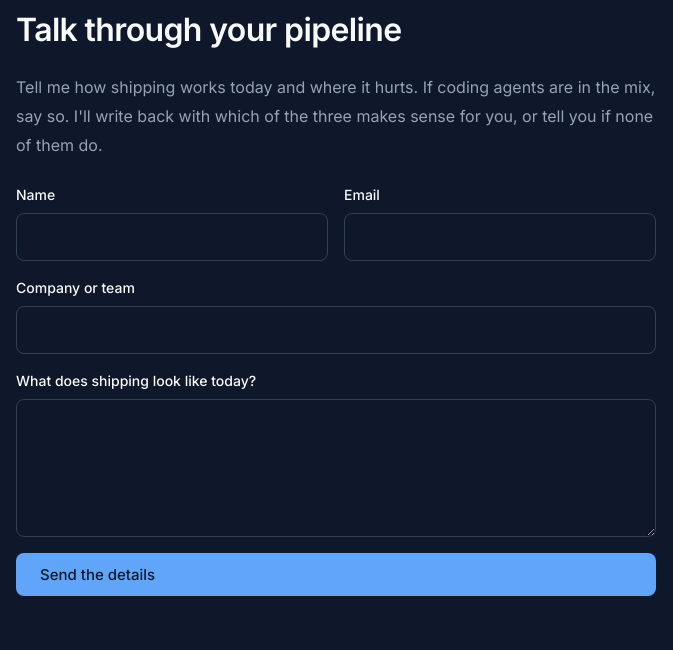
Test: Contact lead form › submits the labeled fields and shows success
This screenshot has width=673, height=650.
Type "Ada Lovelace" into the field labelled "Name" at x=172, y=237, box [16,213,328,261]
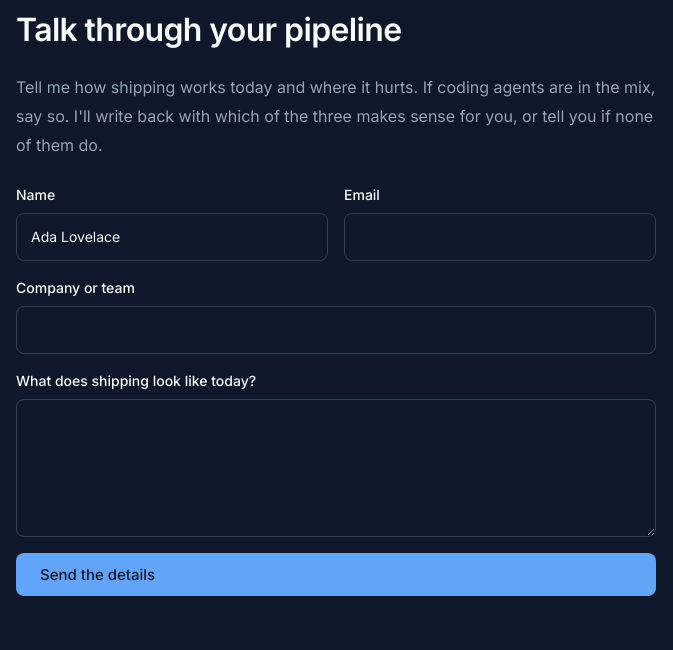
Type "ada@example.com" into the field labelled "Email" at x=500, y=237, box [344,213,656,261]
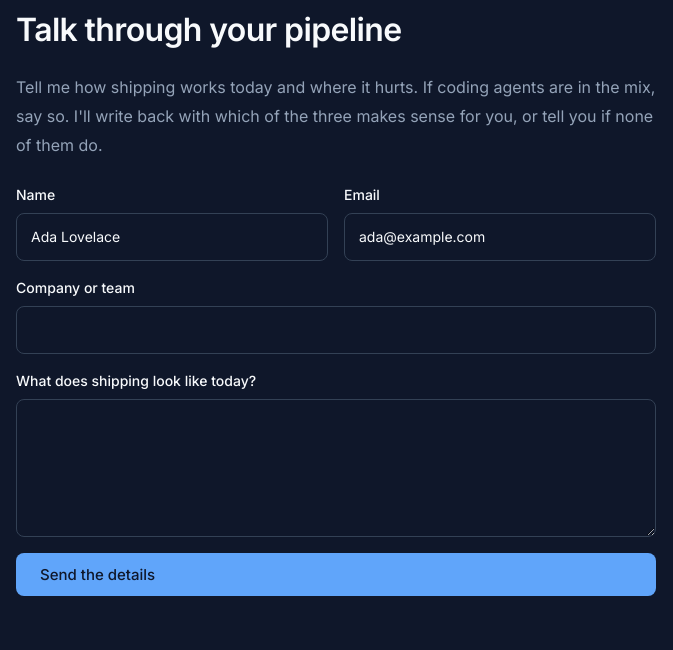
Type "Analytical Engines" into the field labelled "Company or team" at x=336, y=330, box [16,306,656,354]
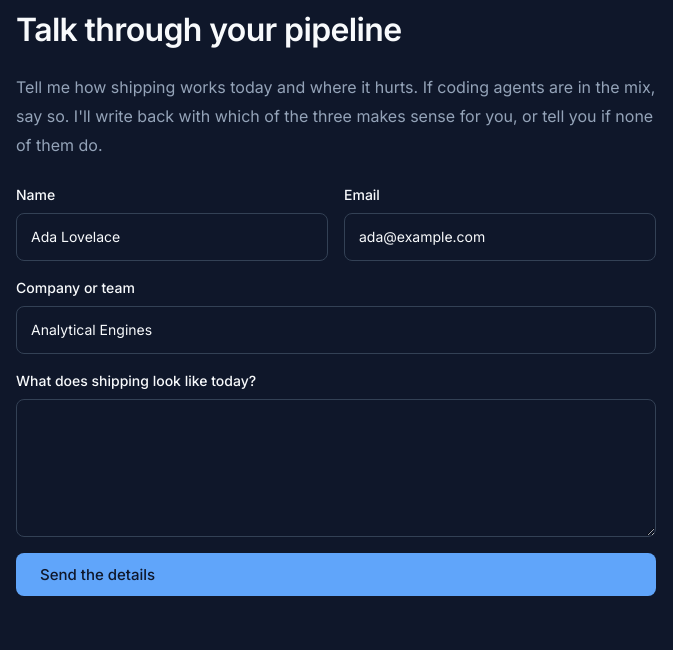
Type "We merge manually and deploy from a laptop." into the text box labelled "What does shipping look like today?" at x=336, y=468, box [16,399,656,537]
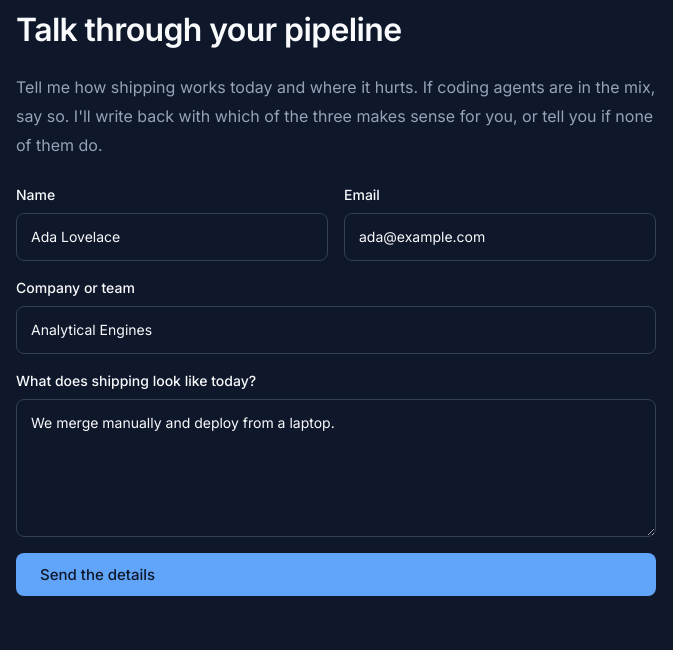
Click the button "Send the details" at x=98, y=574, box [16,553,656,596]
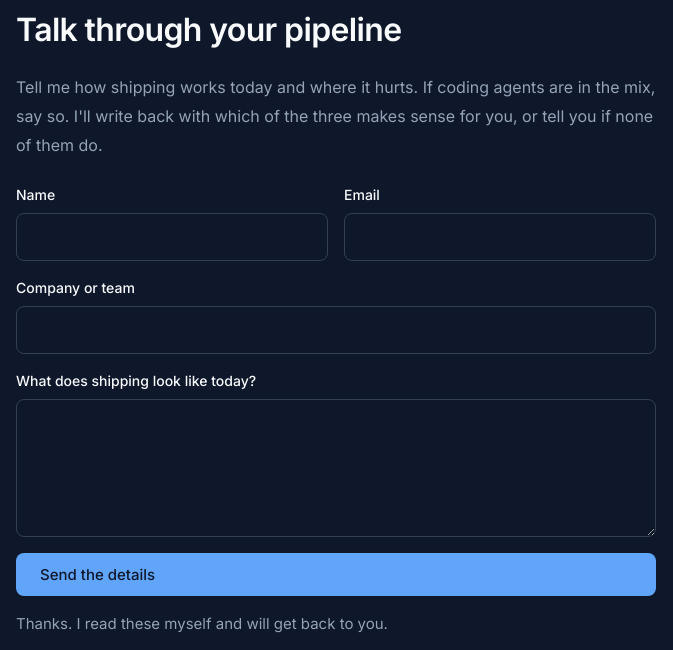
Now the message reads "Thanks. I read these myself and will get back to you.", box [16,614,388,633]
